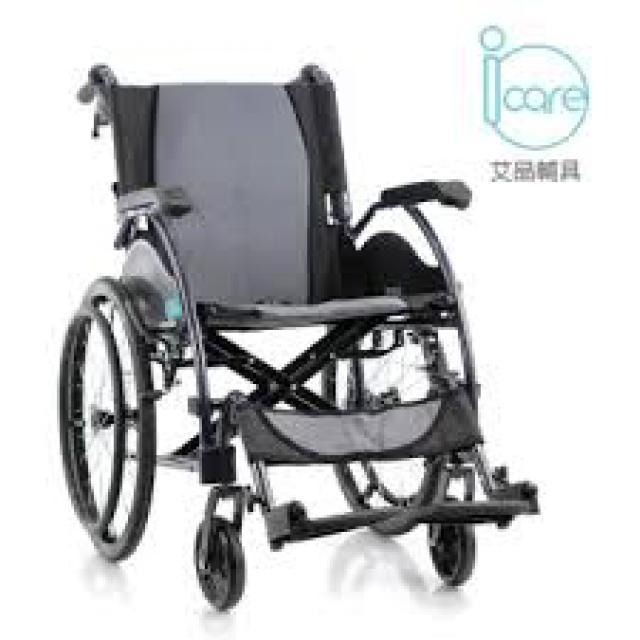wheelchair: (39, 54, 544, 612)
